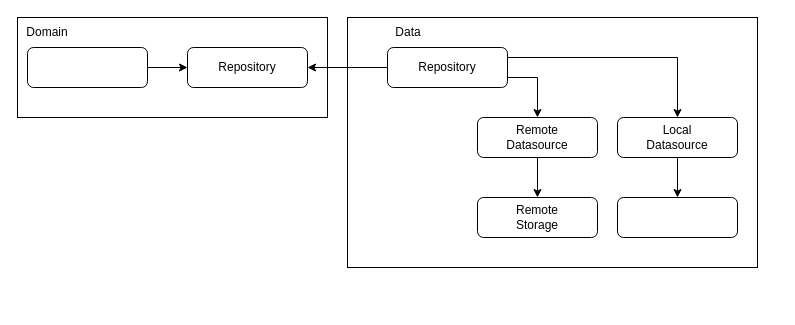
The diagram is 795 pixels wide and 325 high, and some of its shapes have lost their labels. The centre of each missing label's shape, as x and y in pixels:
Local Storage: point 677,217
Usecase: point 87,67
